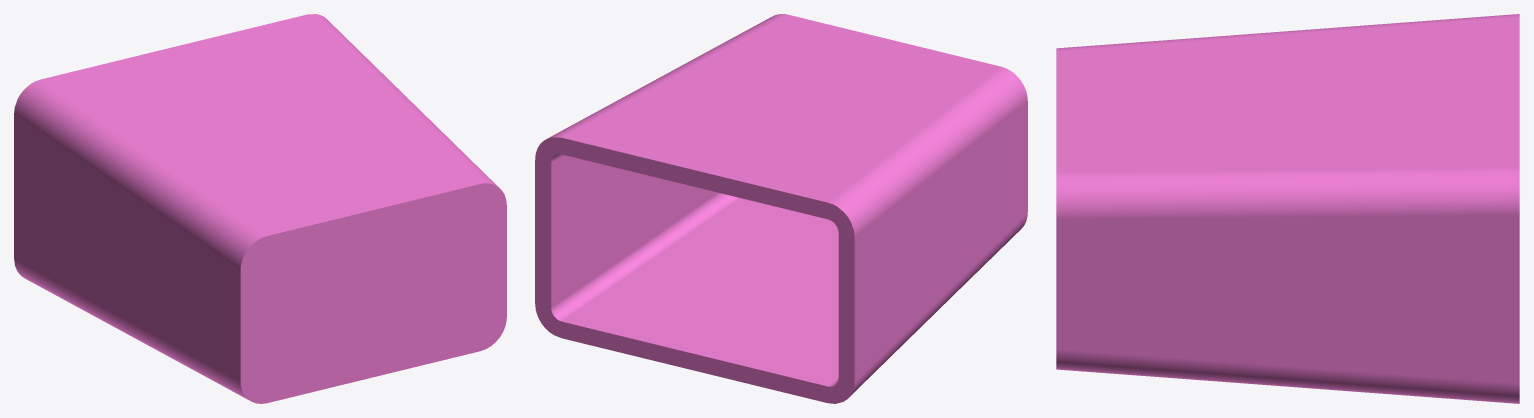
Rendered from trash1.fbx.
3 renders of one model, left to right at view 1: azimuth 30°, elevation 25°; view 2: azimuth 150°, elevation 25°; view 3: azimuth 270°, elevation 25°, orthographic. The views are drawn at different scales.
Visible parts, largest first — view 1: 抽壳1; view 2: 抽壳1; view 3: 抽壳1.
Part boxes in pixels (left/top/right/bottom): 抽壳1: left=14, top=14, right=506, bottom=403; 抽壳1: left=535, top=14, right=1027, bottom=403; 抽壳1: left=1056, top=14, right=1519, bottom=403.
Size of the model in its own units: 4.72 by 2.83 by 5.12.
